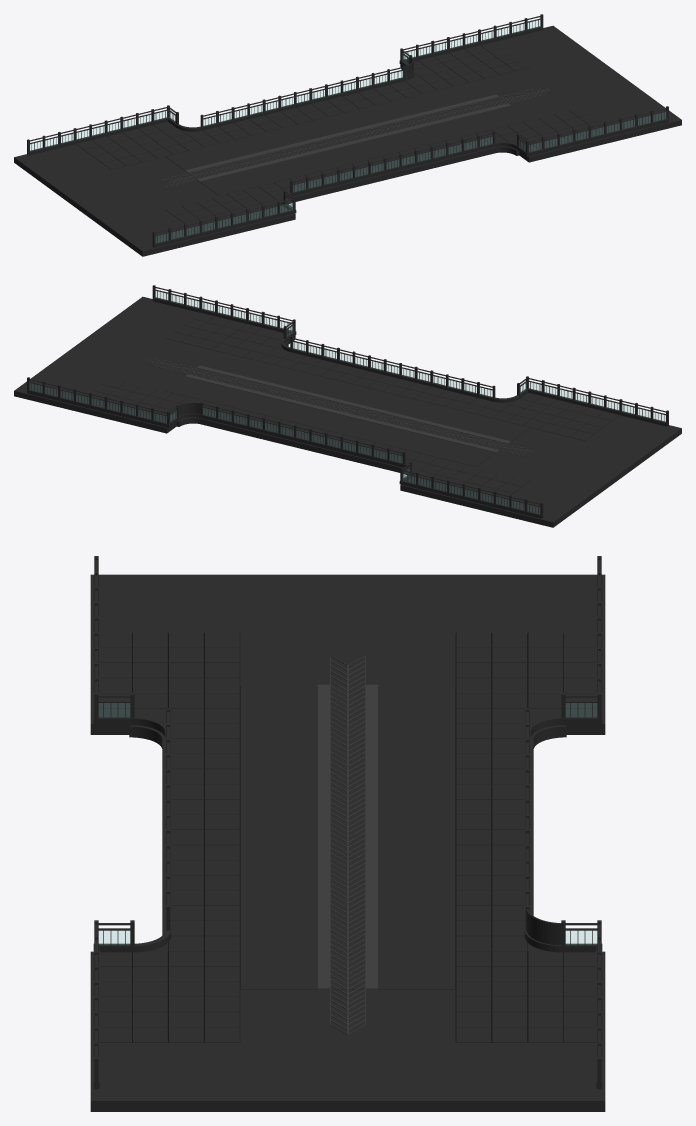
Rendered from Bridge_Lower.fbx.
The picture shows the model from 3 angles, top to bottom: view 1: azimuth 30°, elevation 25°; view 2: azimuth 150°, elevation 25°; view 3: azimuth 270°, elevation 25°; orthographic projection. The views are drawn at different scales.
Visible parts, largest first — view 1: Lower Bridge Deck.002, Tiles.002, Lower Bridge Floor.009, Lower Bridge Railings.010, Lower Bridge Railings.009, Lower Bridge Railings.008, Plane.379, Plane.377, Plane.378, Lower Bridge Floor.008; view 2: Lower Bridge Deck.002, Tiles.002, Lower Bridge Floor.009, Lower Bridge Railings.010, Lower Bridge Railings.009, Lower Bridge Railings.008, Plane.379, Plane.377, Plane.378, Lower Bridge Floor.008; view 3: Lower Bridge Deck.002, Tiles.002, Lower Bridge Floor.009, Plane.379, Plane.377, Plane.378, Lower Bridge Railings.009, Lower Bridge Railings.008, Lower Bridge Railings.010, Lower Bridge Floor.008, Bridge Deck Concave Rounded Corners.base, Bridge Deck Concave Rounded Corners.008 (+1 smaller).
Boxes of the visible parts, x1,y1,x2,y2 form: Lower Bridge Deck.002: (14,25,681,256); Tiles.002: (76,41,616,232); Lower Bridge Floor.009: (166,81,529,195); Lower Bridge Railings.010: (200,65,495,196); Lower Bridge Railings.009: (27,105,296,247); Lower Bridge Railings.008: (399,14,668,156); Plane.379: (188,97,506,179); Plane.377: (185,94,510,181); Plane.378: (157,88,549,187); Lower Bridge Floor.008: (296,104,395,169); Lower Bridge Deck.002: (14,296,681,527); Tiles.002: (79,312,619,503); Lower Bridge Floor.009: (166,352,529,466); Lower Bridge Railings.010: (200,336,495,467); Lower Bridge Railings.009: (399,376,668,518); Lower Bridge Railings.008: (27,285,296,427); Plane.379: (189,368,507,450); Plane.377: (185,365,510,452); Plane.378: (146,359,538,458); Lower Bridge Floor.008: (300,375,399,440); Lower Bridge Deck.002: (90,574,605,1111); Tiles.002: (99,632,596,1042); Lower Bridge Floor.009: (240,685,455,989); Plane.379: (330,685,365,989); Plane.377: (318,684,377,989); Plane.378: (330,655,365,1034); Lower Bridge Railings.009: (93,556,602,725); Lower Bridge Railings.008: (93,920,602,1089); Lower Bridge Railings.010: (165,708,530,930); Lower Bridge Floor.008: (171,830,524,845); Bridge Deck Concave Rounded Corners.base: (132,716,563,952); Bridge Deck Concave Rounded Corners.008: (129,725,566,748).
Size of the model in its own units: 104 by 3.8 by 43.
